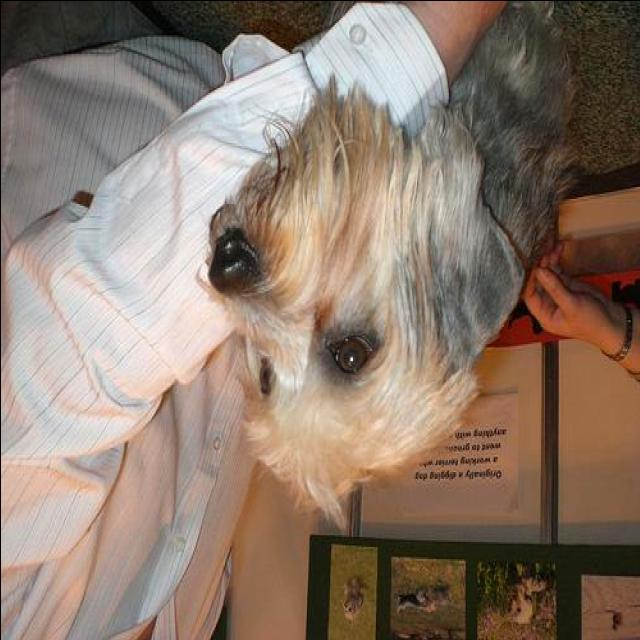dandie_dinmont: (193, 7, 578, 529)
